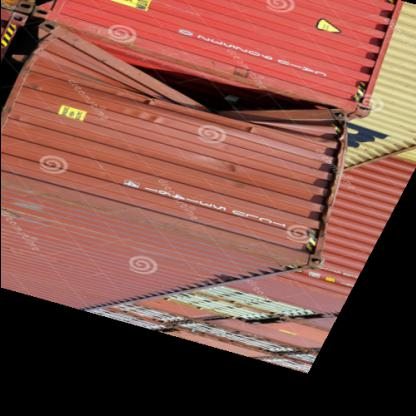Damage: (129, 44, 326, 140)
